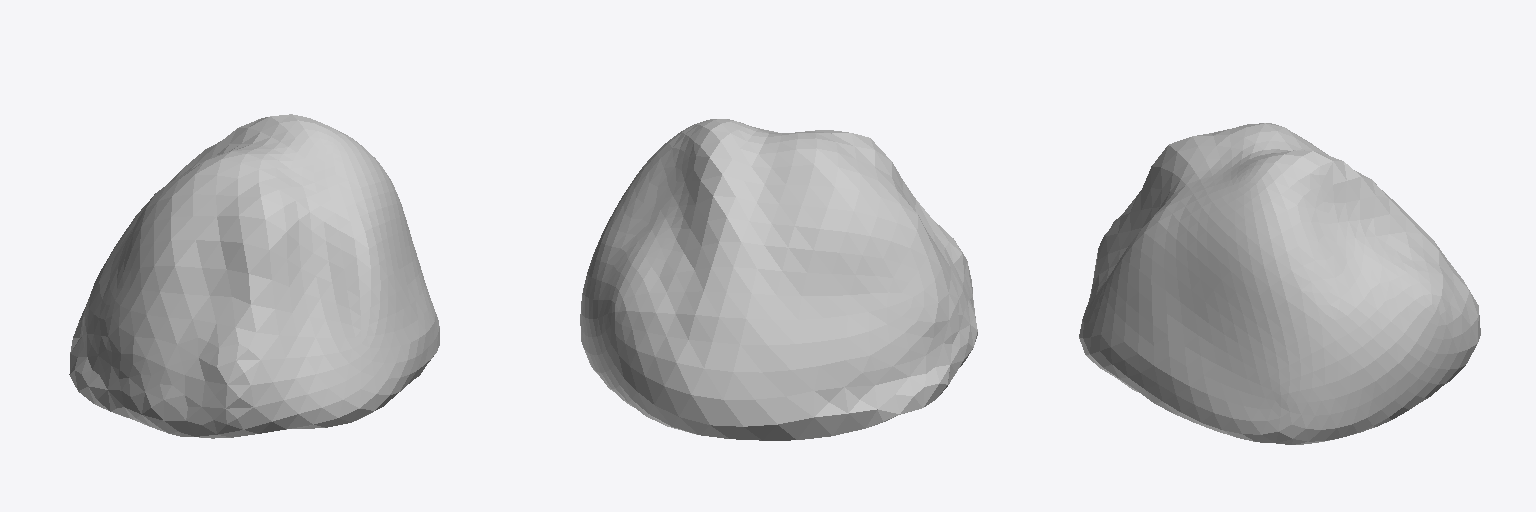
Rendered from Slime.obj.
3 views of the same model, side by side, from view 1: azimuth 30°, elevation 25°; view 2: azimuth 150°, elevation 25°; view 3: azimuth 270°, elevation 25° (orthographic).
Size of the model in its own units: 3.29 by 2.28 by 3.38.